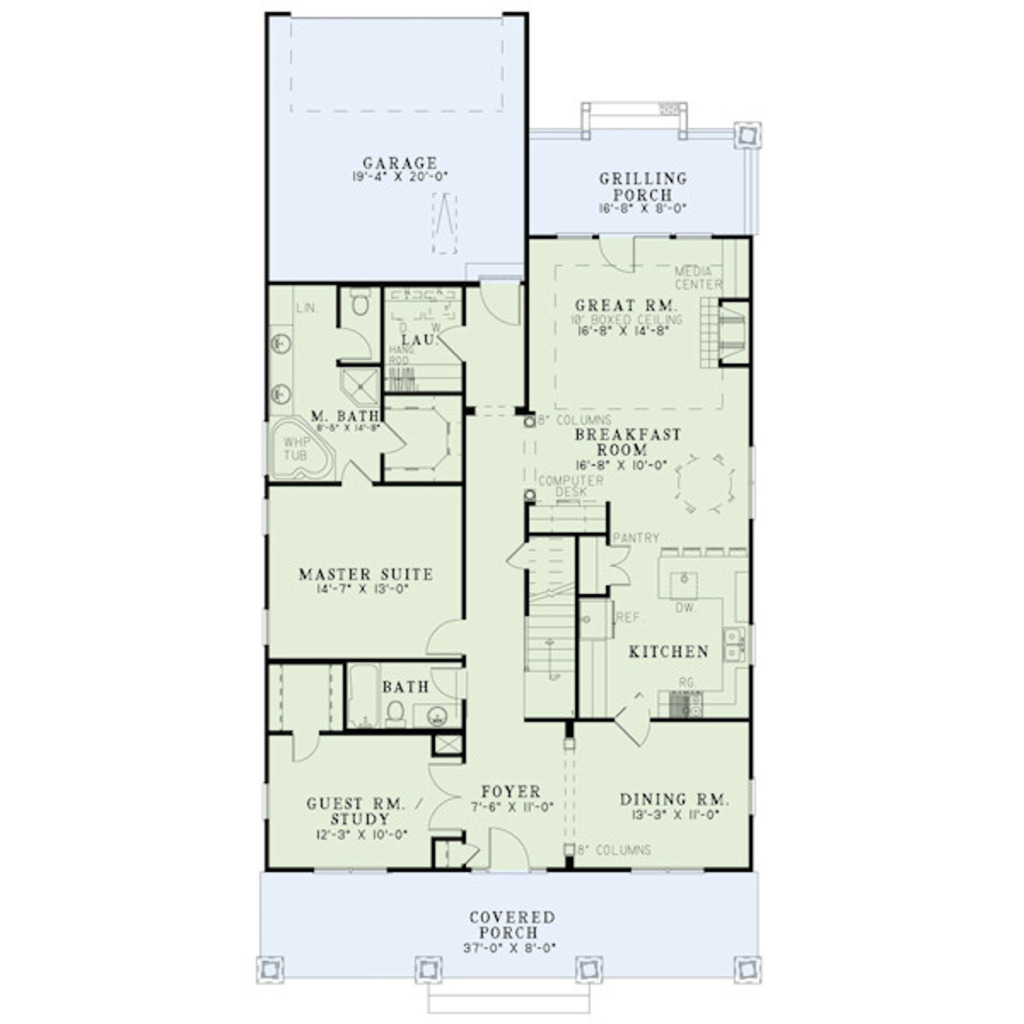door: (420, 754, 476, 843), (474, 257, 526, 333), (476, 822, 534, 876), (609, 695, 660, 754), (592, 232, 647, 284), (417, 660, 480, 705), (415, 611, 468, 654), (433, 316, 469, 370), (493, 532, 536, 576), (330, 325, 369, 363), (599, 541, 628, 592), (341, 458, 377, 495), (285, 733, 323, 765)
kitchen_bar: (660, 546, 761, 601)
large_sink: (379, 687, 411, 739), (336, 284, 371, 322)
small_sink: (265, 312, 299, 412), (420, 697, 452, 728)
stairs: (519, 495, 588, 717)
tub: (350, 665, 380, 732)
twin_sink: (707, 622, 765, 670)
window: (250, 766, 287, 833), (623, 858, 717, 878), (738, 776, 771, 830), (312, 862, 398, 879), (257, 595, 284, 647), (253, 481, 277, 533)
